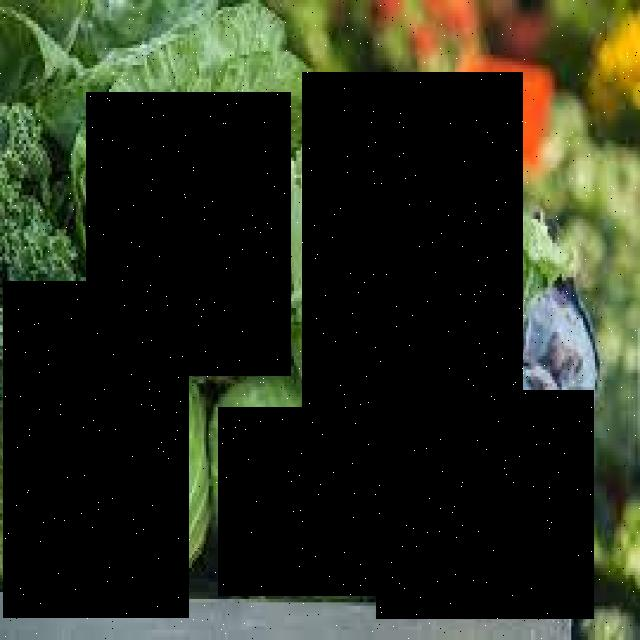Cabbage: (302, 73, 524, 414), (4, 282, 190, 619), (86, 93, 291, 377), (376, 390, 594, 619), (219, 408, 388, 597)
